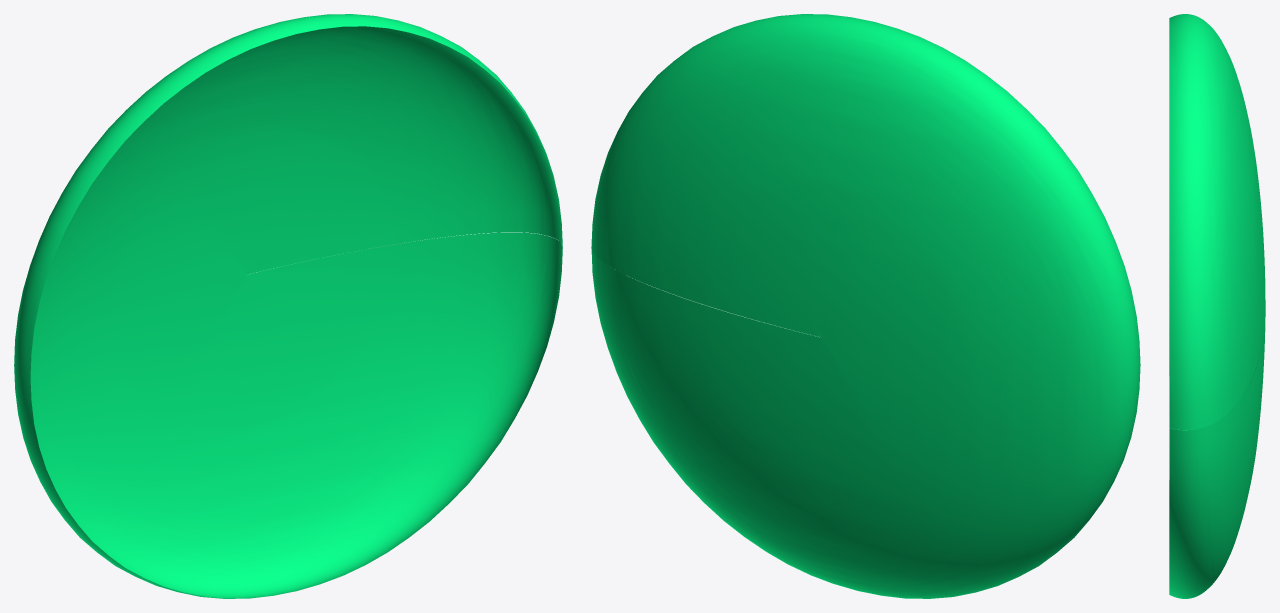
Rendered from exponential_map_surface_ar_universal.glb.
The picture shows the model from 3 angles, left to right: view 1: azimuth 30°, elevation 25°; view 2: azimuth 150°, elevation 25°; view 3: azimuth 270°, elevation 25°; orthographic projection. The views are drawn at different scales.
Parts seen in each view (by area): view 1: exponential_map_surface_ar; view 2: exponential_map_surface_ar; view 3: exponential_map_surface_ar.
Part boxes in pixels (x1,y1,x2,y2): exponential_map_surface_ar: (14, 14, 562, 598); exponential_map_surface_ar: (591, 14, 1140, 598); exponential_map_surface_ar: (1169, 14, 1265, 598).
Size of the model in its own units: 1 by 1 by 0.1646.
